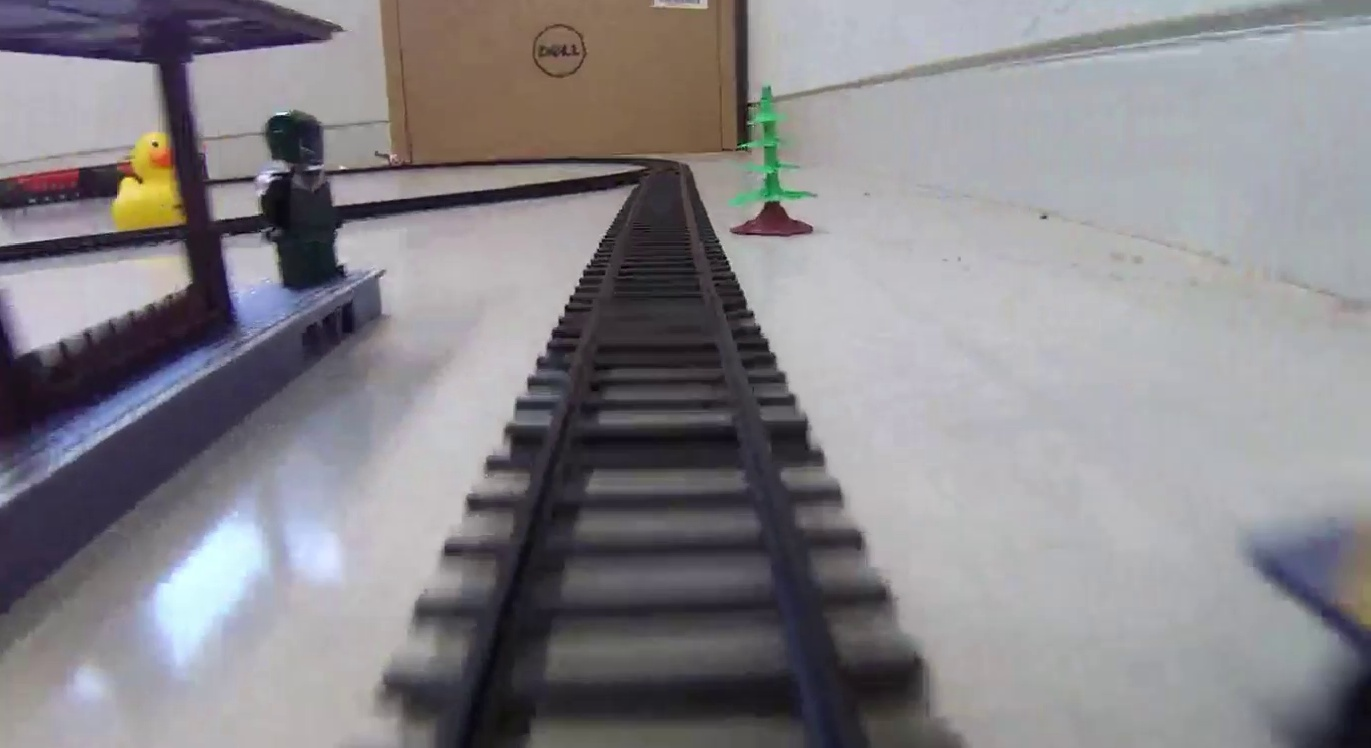people: (256, 111, 349, 286)
tree: (724, 85, 819, 237)
